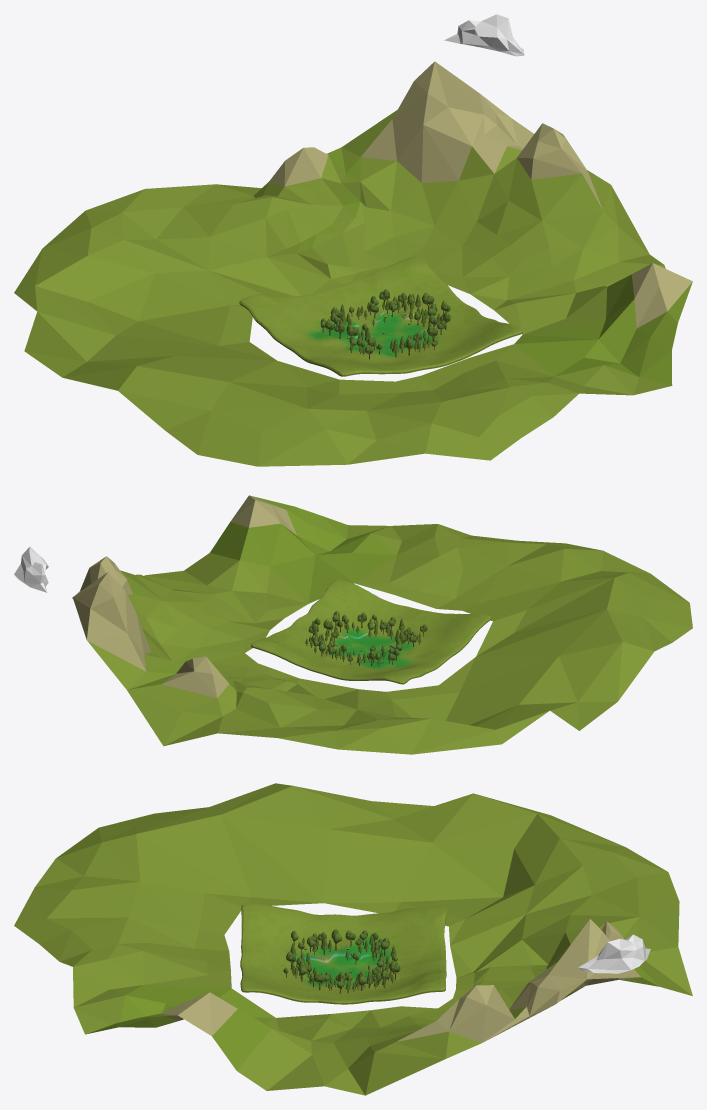
The model's file is lowPolyGroveLarge.fbx.
3 views of the same model, one above another, from view 1: azimuth 30°, elevation 25°; view 2: azimuth 150°, elevation 25°; view 3: azimuth 270°, elevation 25° (orthographic). The views are drawn at different scales.
Parts seen in each view (by area): view 1: OuterScene, ground, Icosphere; view 2: OuterScene, ground, Icosphere; view 3: OuterScene, ground, Icosphere.
Part boxes in pixels (left/top/right/bottom): OuterScene: left=14, top=61, right=692, bottom=466; ground: left=239, top=256, right=522, bottom=376; Icosphere: left=444, top=14, right=524, bottom=56; OuterScene: left=72, top=495, right=692, bottom=754; ground: left=251, top=579, right=491, bottom=684; Icosphere: left=14, top=546, right=48, bottom=592; OuterScene: left=14, top=783, right=692, bottom=1095; ground: left=240, top=903, right=446, bottom=1004; Icosphere: left=578, top=934, right=650, bottom=973.
Bounding box in the file's own units: 1669 × 448 × 1716.
